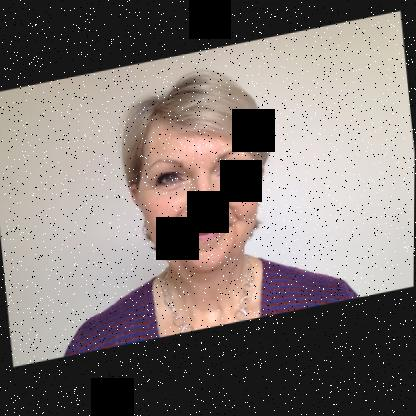Female: (120, 99, 273, 285)
